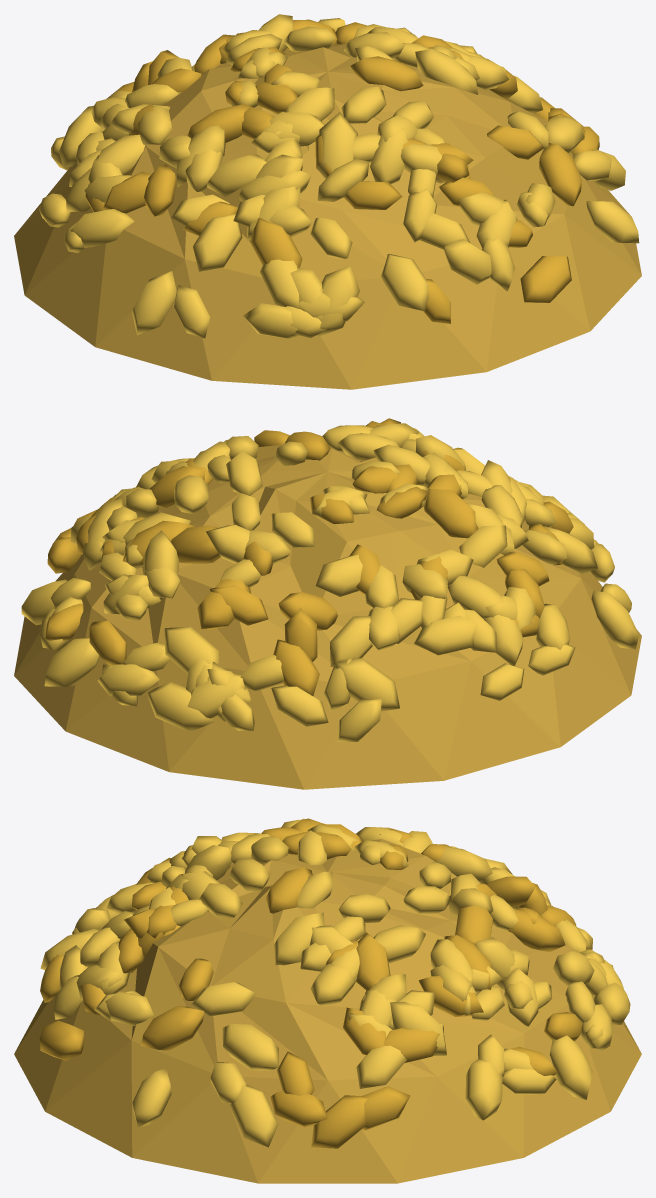
File: TasGrainesJaune.obj
The picture shows the model from 3 angles, top to bottom: view 1: azimuth 30°, elevation 25°; view 2: azimuth 150°, elevation 25°; view 3: azimuth 270°, elevation 25°; orthographic projection.
Visible parts, largest first — view 1: TasGrainesJaune; view 2: TasGrainesJaune; view 3: TasGrainesJaune.
Boxes of the visible parts, box(x1,y1,x2,y2) form: TasGrainesJaune: box(14, 14, 641, 389); TasGrainesJaune: box(14, 418, 641, 789); TasGrainesJaune: box(14, 818, 641, 1183).
Size of the model in its own units: 0.9749 by 0.3515 by 1.
